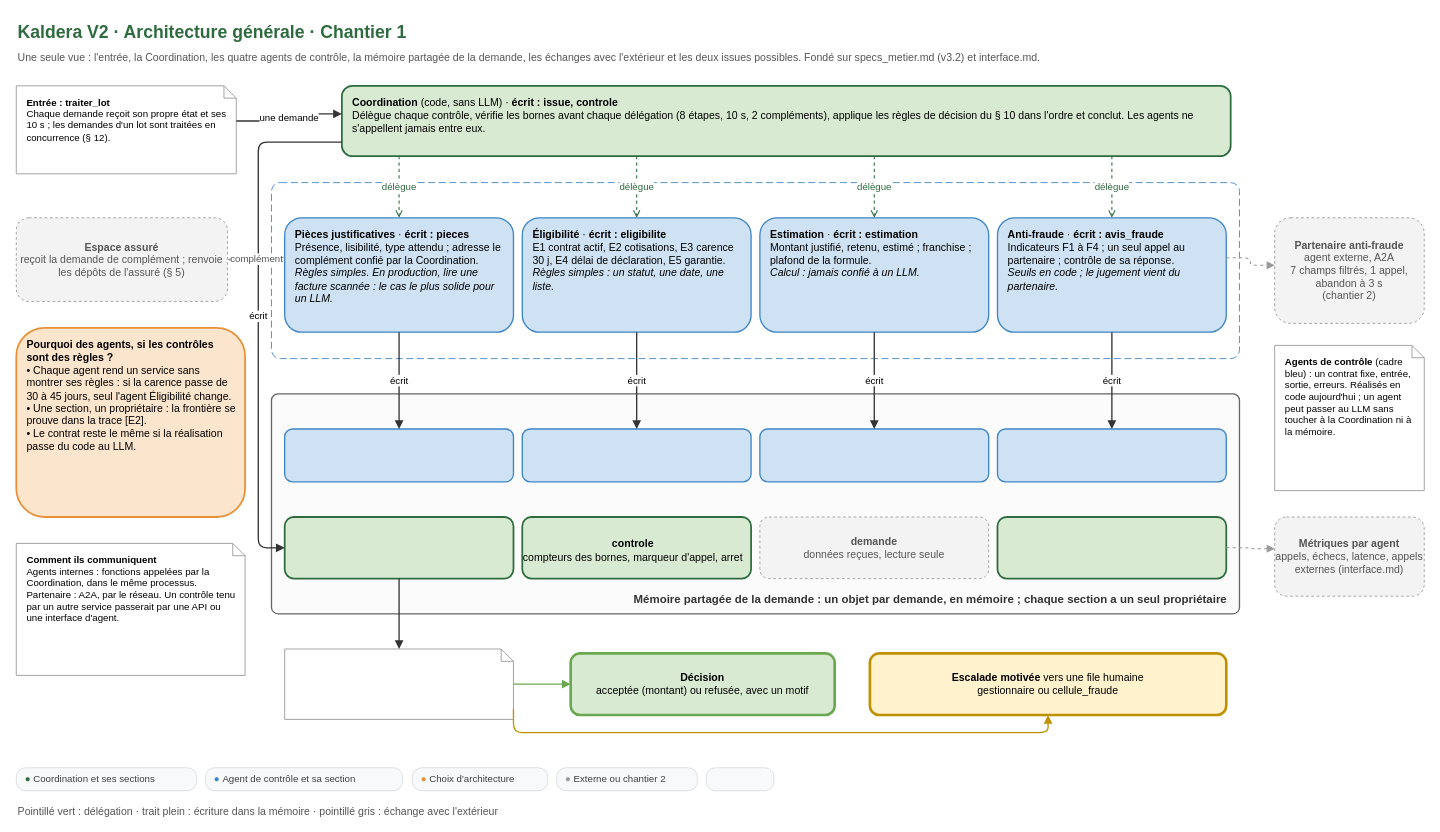
Some shapes in this 1440 by 832 pixel diagram are drawn without their labels. Each missing label, with the centre of its shape:
avis_fraude niveau, score, evaluation_id: [1111,455]
eligibilite: [636,455]
estimation: [874,455]
Fiche de décision (§ 11) construite depuis issue, avis_fraude, trace et arret: [398,683]
issue décision ou escalade, motif: [398,547]
pieces réécrite après chaque dépôt: [399,455]
trace , ajout seul agent, sections écrites, durée, statut: [1111,547]
● Escalade: [739,779]
